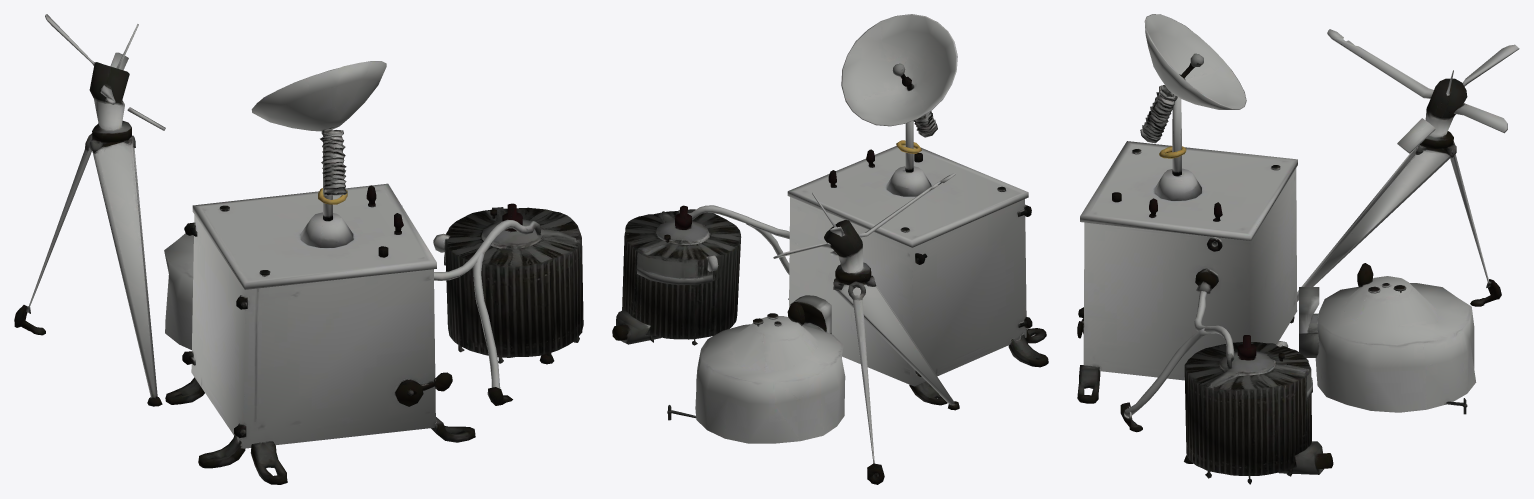
The model's file is alsep.glb.
3 renders of one model, left to right at view 1: azimuth 30°, elevation 25°; view 2: azimuth 150°, elevation 25°; view 3: azimuth 270°, elevation 25°, orthographic. The views are drawn at different scales.
Visible parts, largest first — view 1: tripo_node_bb9cff60-bf4b-4043-a300-1440c0deacad; view 2: tripo_node_bb9cff60-bf4b-4043-a300-1440c0deacad; view 3: tripo_node_bb9cff60-bf4b-4043-a300-1440c0deacad.
Boxes of the visible parts, <box> form: tripo_node_bb9cff60-bf4b-4043-a300-1440c0deacad: <box>14,14,583,484</box>; tripo_node_bb9cff60-bf4b-4043-a300-1440c0deacad: <box>612,14,1048,484</box>; tripo_node_bb9cff60-bf4b-4043-a300-1440c0deacad: <box>1077,14,1519,484</box>.
Size of the model in its own units: 0.998 by 0.8222 by 0.9747.
Materials: 1 (1 with a texture image).
